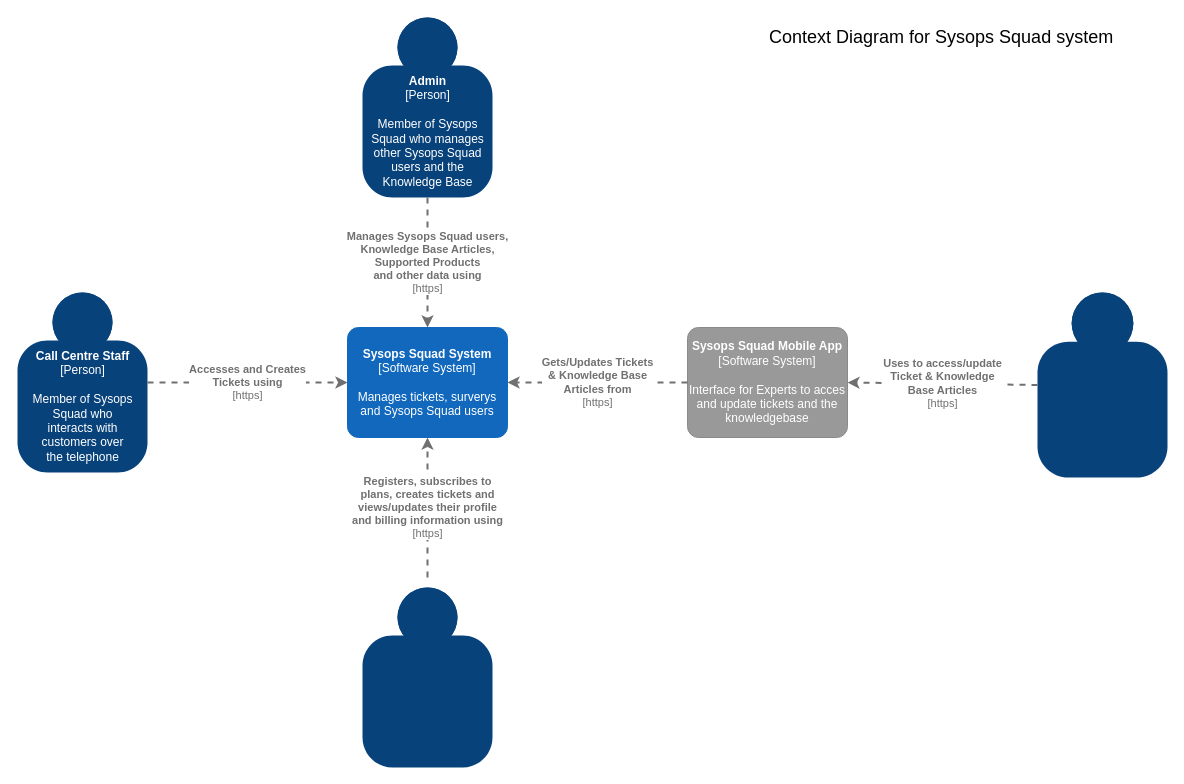
This 1184x784 diagram has some shape labels left out. The shapes that lost their labels are listed below. From the top down, each one's centre as x and y in pixels, then its label:
the point at 1102,384: Expert [Person] Member of Sysops Squad who acts on tickets
the point at 427,677: Customer [Person] A customer of Penultimate Electronics
